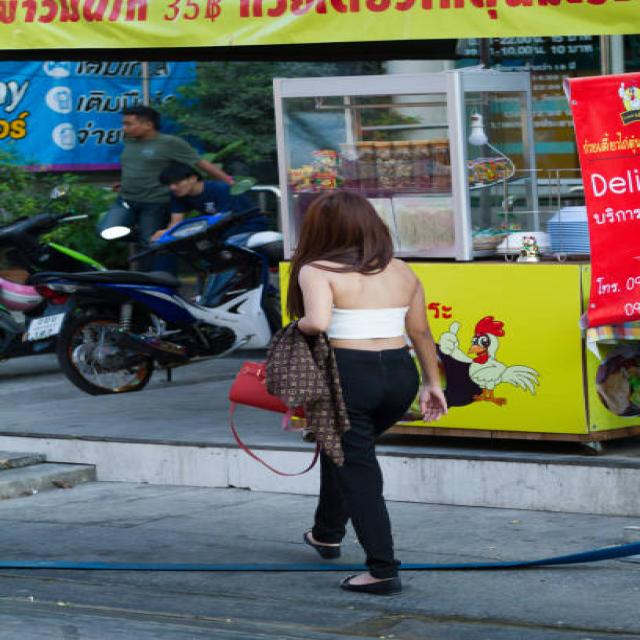Emperan: (267, 37, 640, 471)
